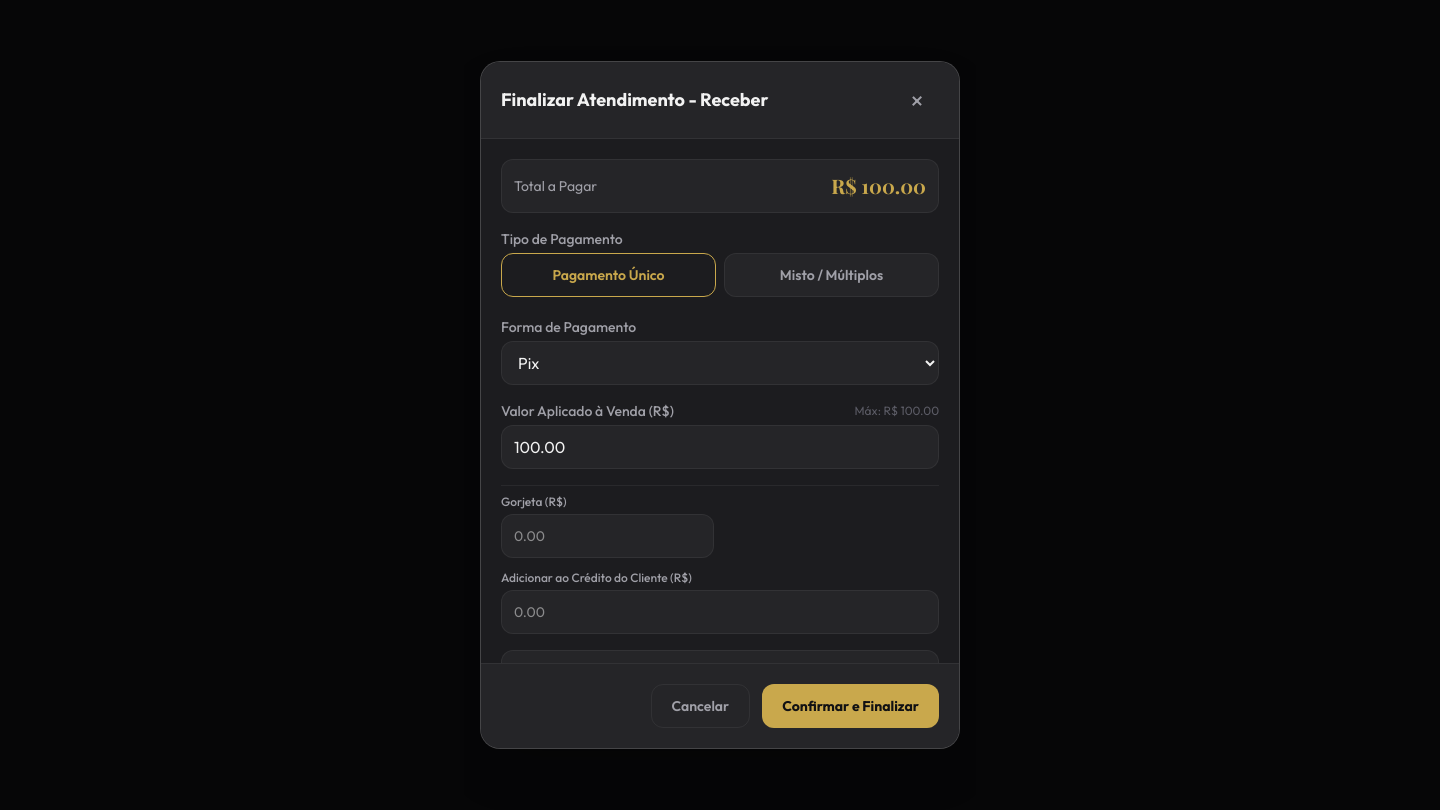
Scenario: UX1 Independent Review Fix Suite (TEMBARBER_UX1_INDEPENDENT_REVIEW_FIX) › UX1-REV-002 — Prevenção de Perda Acidental de Dados › intercepta a tecla Escape e exibe confirmação contextual se houver dados alterados
// Adicionar gorjeta
Type "10.00" into the number field labelled "Gorjeta (R$)". click: [608, 536]
box: [501,514,714,558]
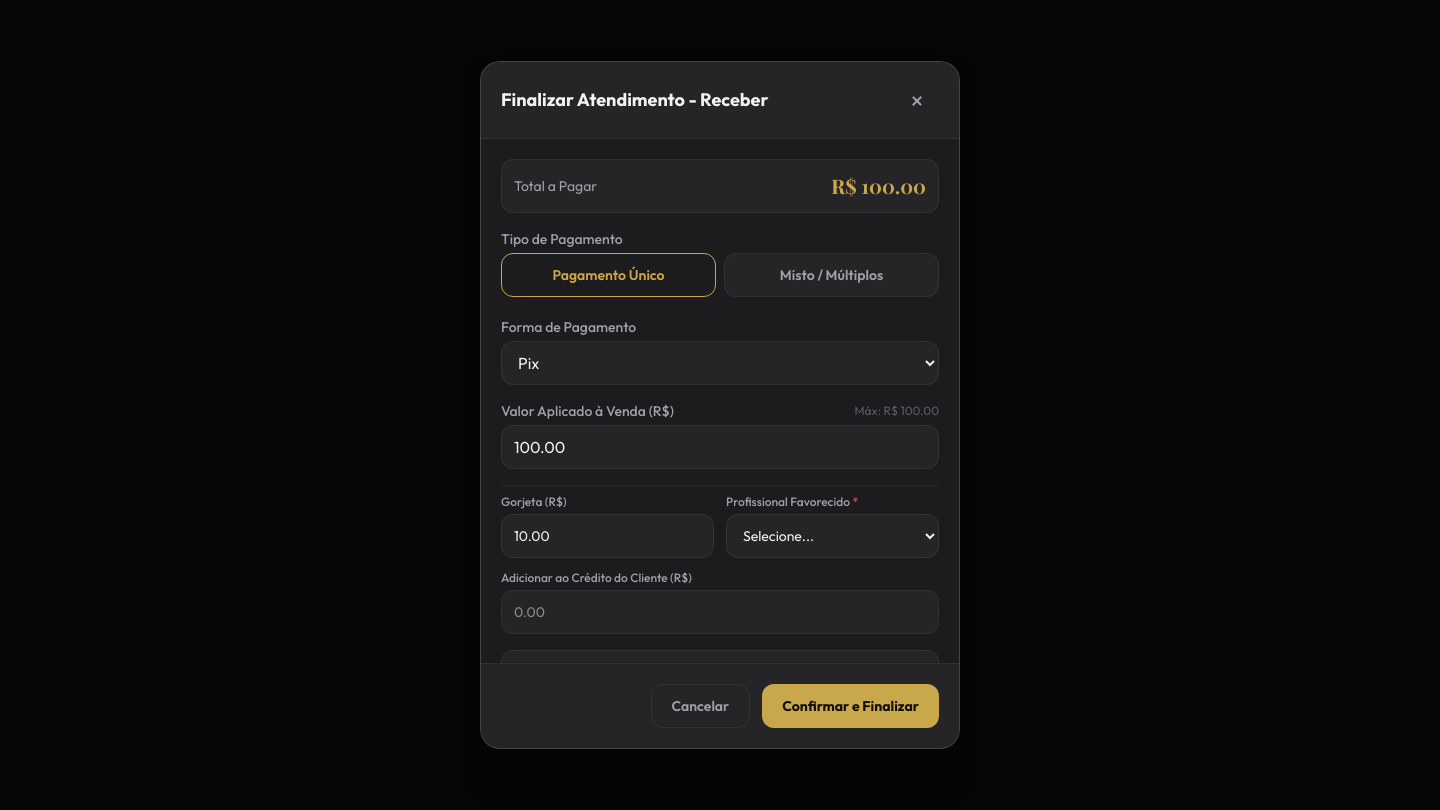
// Disparar Escape no diálogo
Press Escape in the dialog, box [464,0,976,809]
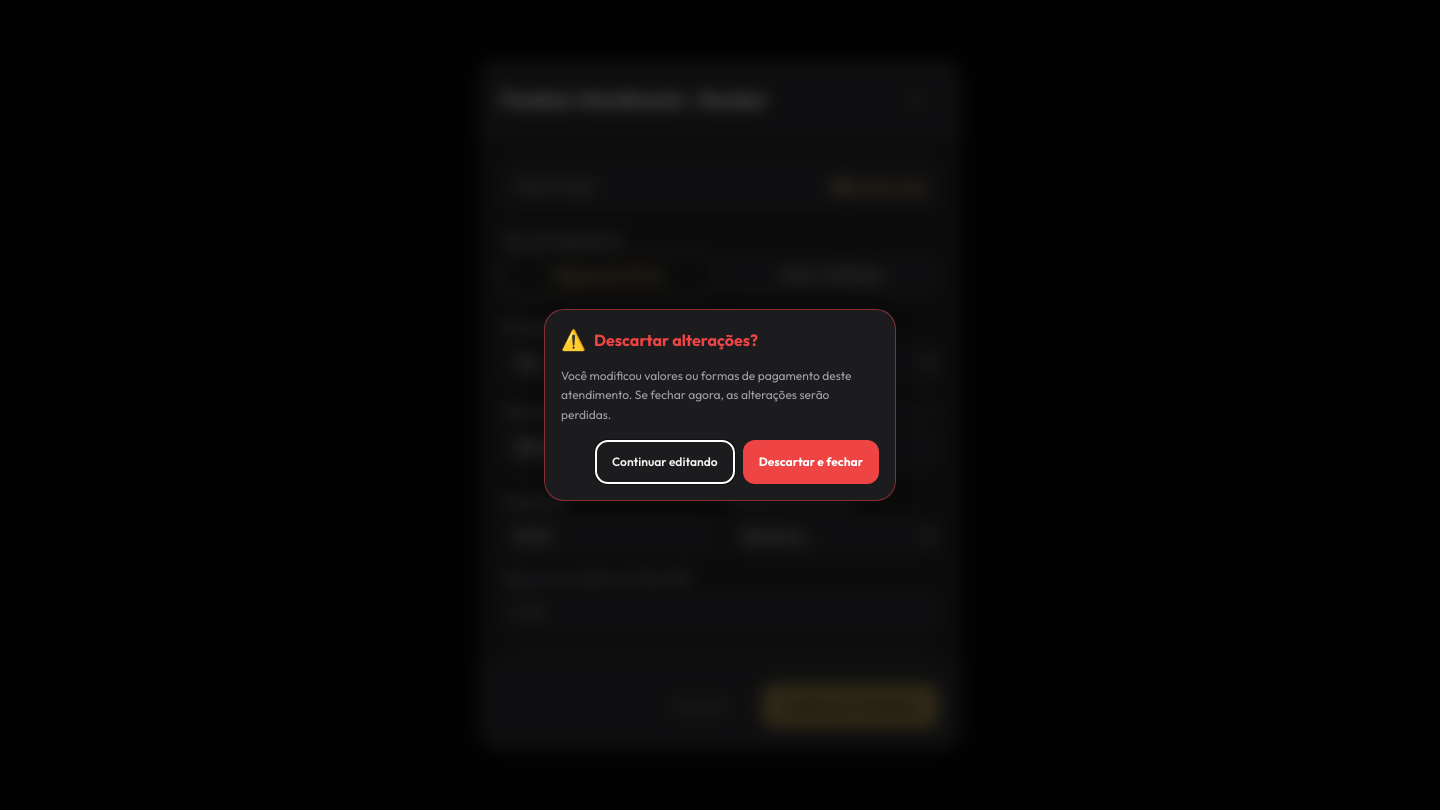
Expected: the dialog is shown, [528,293,912,517]
